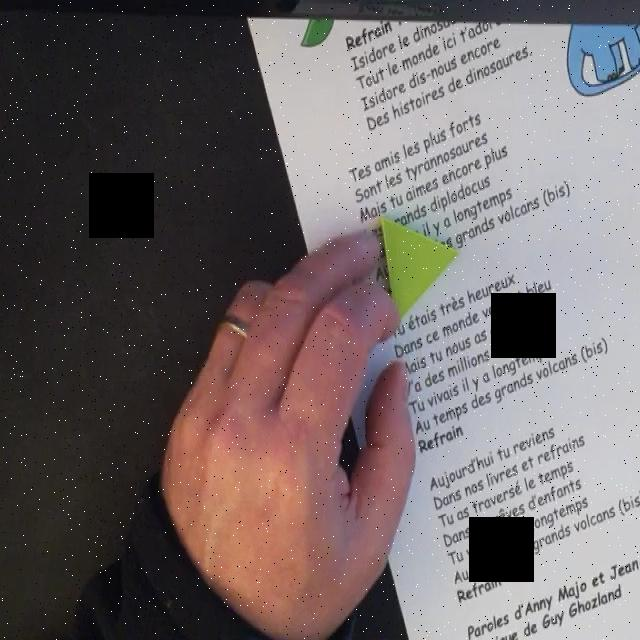triangle: (378, 212, 459, 324)
